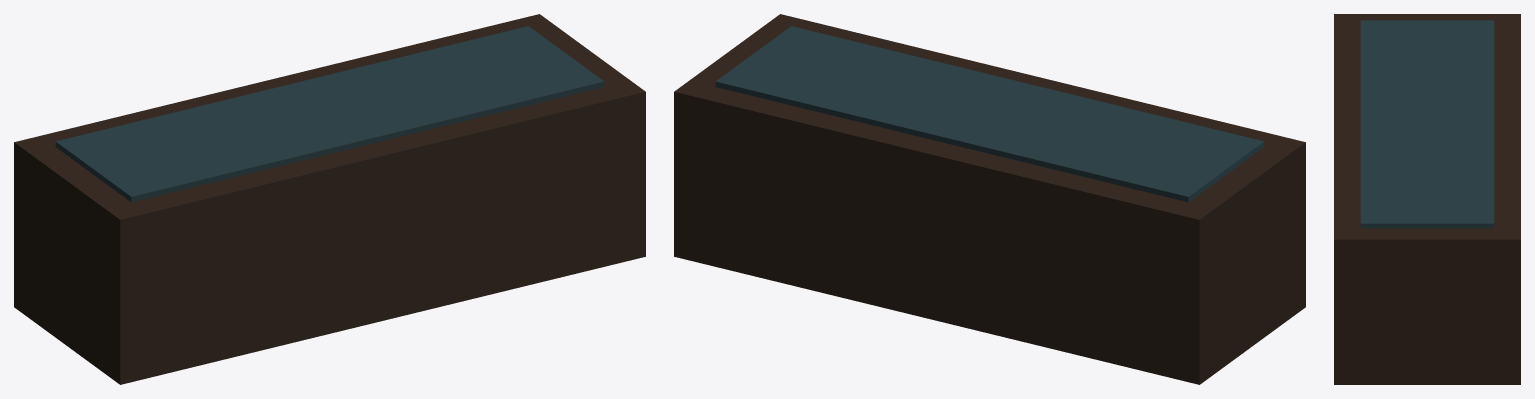
Rendered from walk_prop_trough.glb.
The picture shows the model from 3 angles, left to right: view 1: azimuth 30°, elevation 25°; view 2: azimuth 150°, elevation 25°; view 3: azimuth 270°, elevation 25°; orthographic projection. The views are drawn at different scales.
Parts seen in each view (by area): view 1: walk_prop_trough; view 2: walk_prop_trough; view 3: walk_prop_trough.
Part boxes in pixels (box(x1,y1,x2,y2)): walk_prop_trough: box(14, 14, 645, 384); walk_prop_trough: box(674, 14, 1305, 384); walk_prop_trough: box(1334, 14, 1520, 384).
Bounding box in the file's own units: 2 × 0.62 × 0.7.
Materials: 1 (1 with a texture image).
